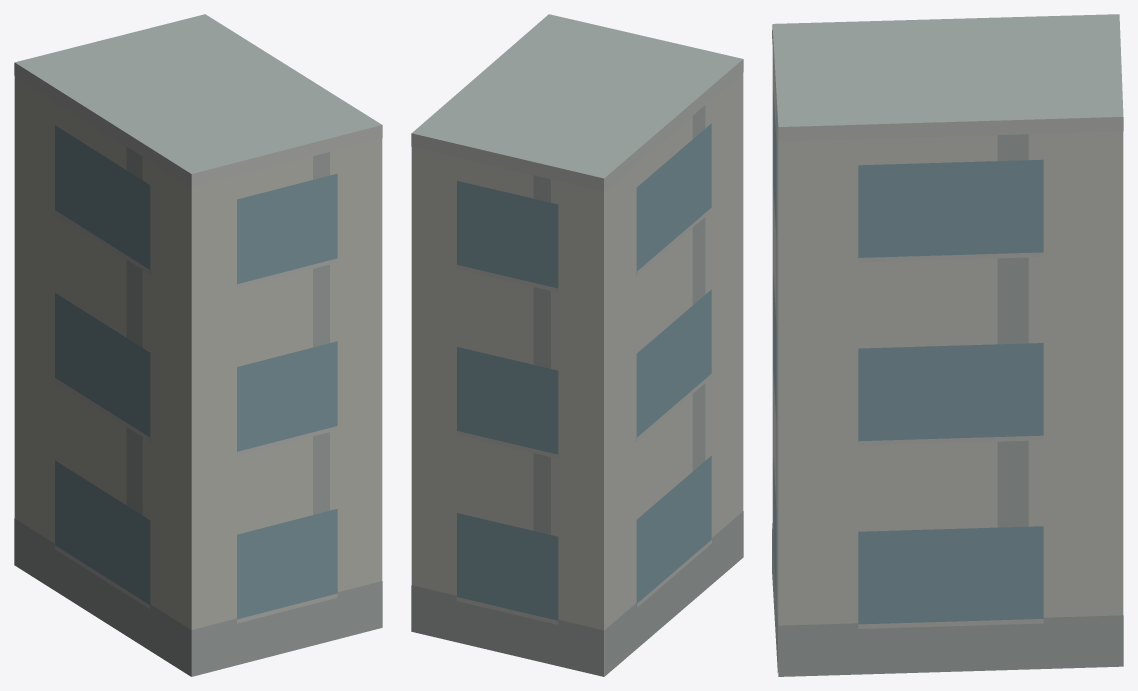
The model's file is survey-upis-33028676.glb.
3 views of the same model, side by side, from view 1: azimuth 30°, elevation 25°; view 2: azimuth 150°, elevation 25°; view 3: azimuth 270°, elevation 25° (orthographic). The views are drawn at different scales.
Visible parts, largest first — view 1: survey-upis-33028676.tmp; view 2: survey-upis-33028676.tmp; view 3: survey-upis-33028676.tmp.
Part boxes in pixels (left/top/right/bottom): survey-upis-33028676.tmp: left=14, top=14, right=382, bottom=676; survey-upis-33028676.tmp: left=411, top=14, right=743, bottom=676; survey-upis-33028676.tmp: left=772, top=14, right=1123, bottom=676.
Bounding box in the file's own units: 4.05 × 9.15 × 5.31.
